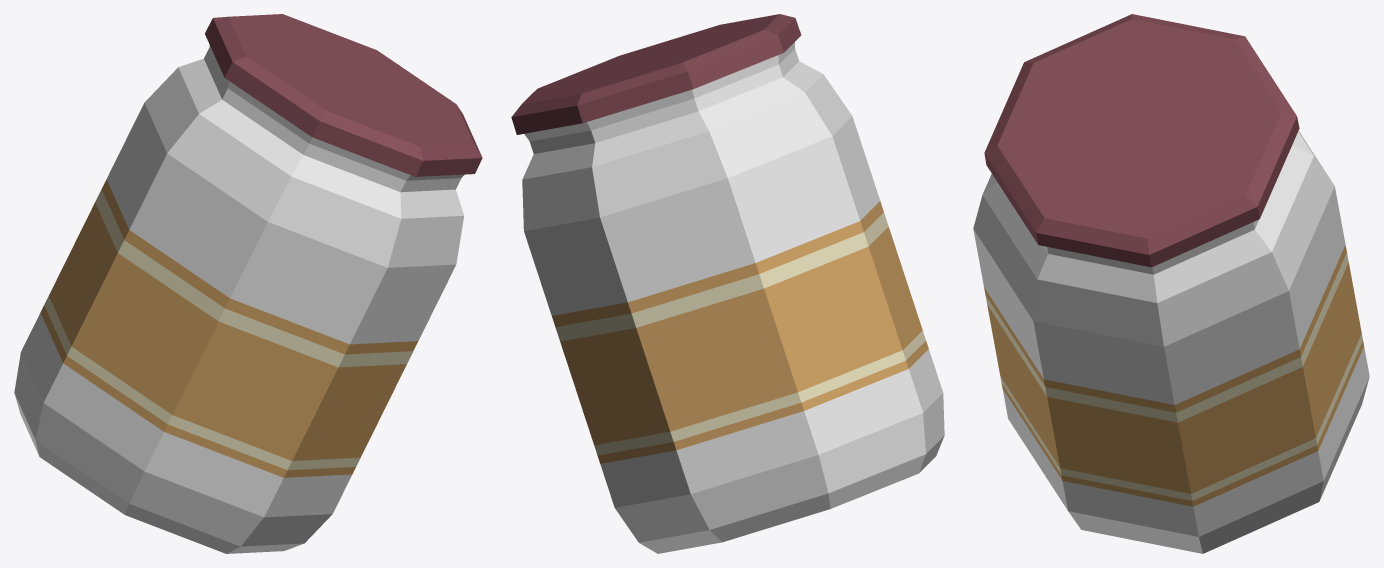
Rendered from Cinnamon.fbx.
3 views of the same model, side by side, from view 1: azimuth 30°, elevation 25°; view 2: azimuth 150°, elevation 25°; view 3: azimuth 270°, elevation 25° (orthographic). The views are drawn at different scales.
Visible parts, largest first — view 1: Cinnamon; view 2: Cinnamon; view 3: Cinnamon.
Part boxes in pixels (<box>): Cinnamon: <box>14,14,482,553</box>; Cinnamon: <box>511,14,944,553</box>; Cinnamon: <box>973,14,1369,553</box>.
Bounding box in the file's own units: 107 × 123 × 86.81.
